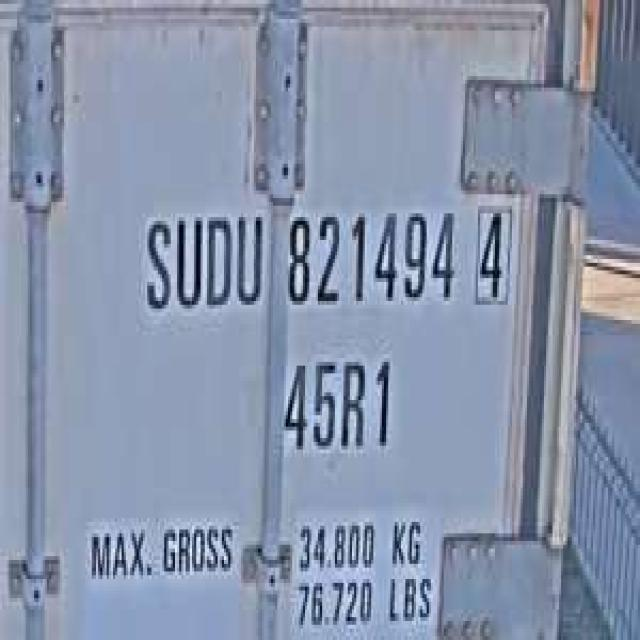dv: (469, 194, 516, 309)
owner: (136, 194, 264, 320)
serial: (280, 190, 458, 312)
size: (277, 343, 397, 461)
